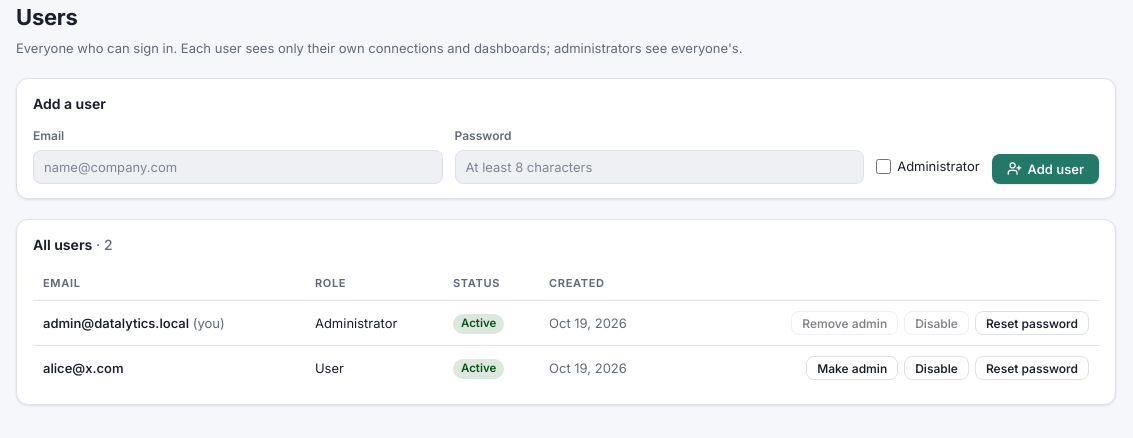
Test: Users page › reports an expired session to the app
Click the button "Disable" in the row of "alice@x.com": [937, 368] box [904,356,969,380]
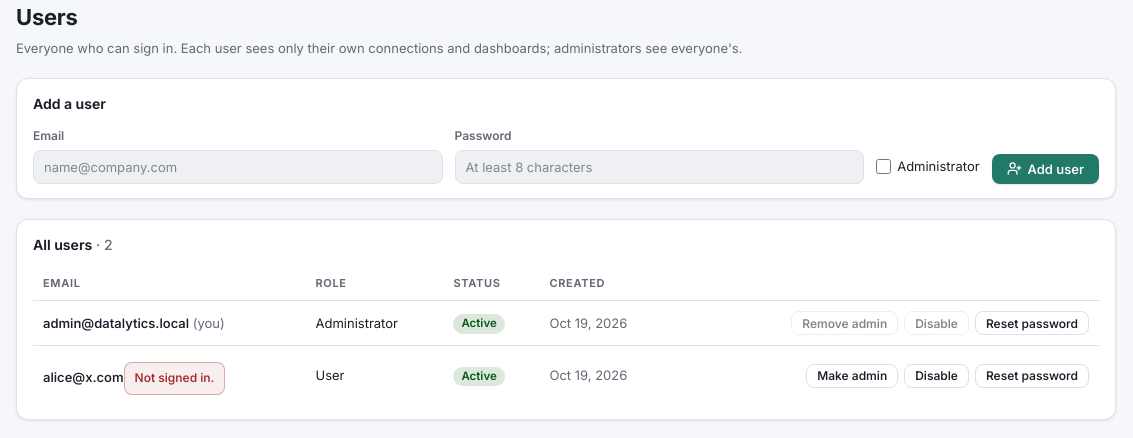
Result: the message "Not signed in." is shown at [124,362,225,395]
